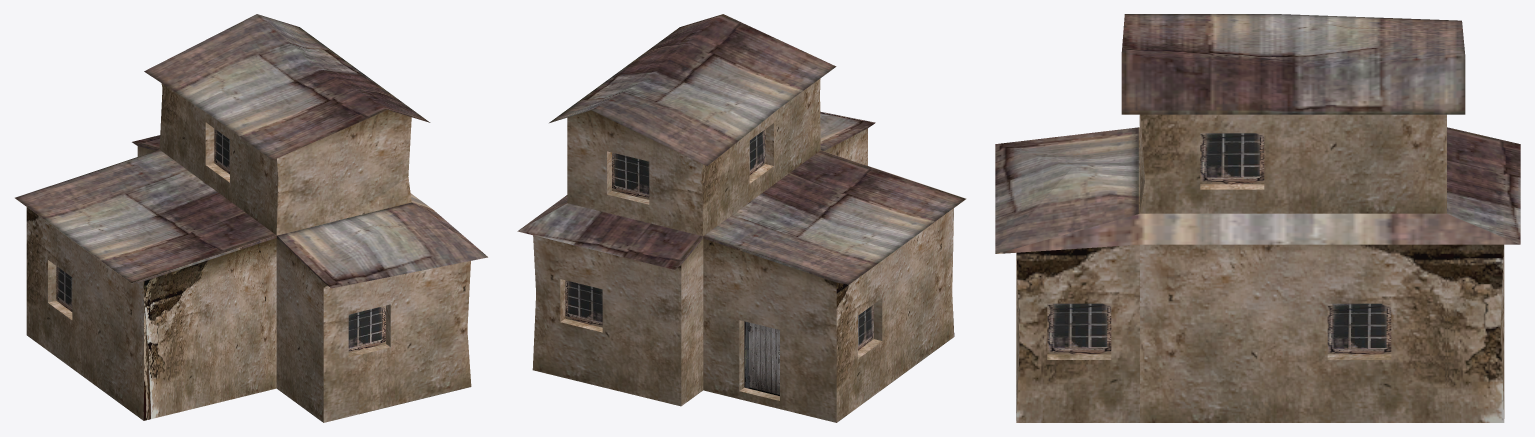
File: moghut3.glb
3 views of the same model, side by side, from view 1: azimuth 30°, elevation 25°; view 2: azimuth 150°, elevation 25°; view 3: azimuth 270°, elevation 25° (orthographic). The views are drawn at different scales.
Visible parts, largest first — view 1: _moghut3; view 2: _moghut3; view 3: _moghut3.
Part boxes in pixels (left/top/right/bottom): _moghut3: left=15, top=14, right=487, bottom=422; _moghut3: left=517, top=14, right=966, bottom=422; _moghut3: left=995, top=14, right=1520, bottom=422.
Size of the model in its own units: 8.94 by 7.31 by 10.26.
Materials: 2 (2 with a texture image).
